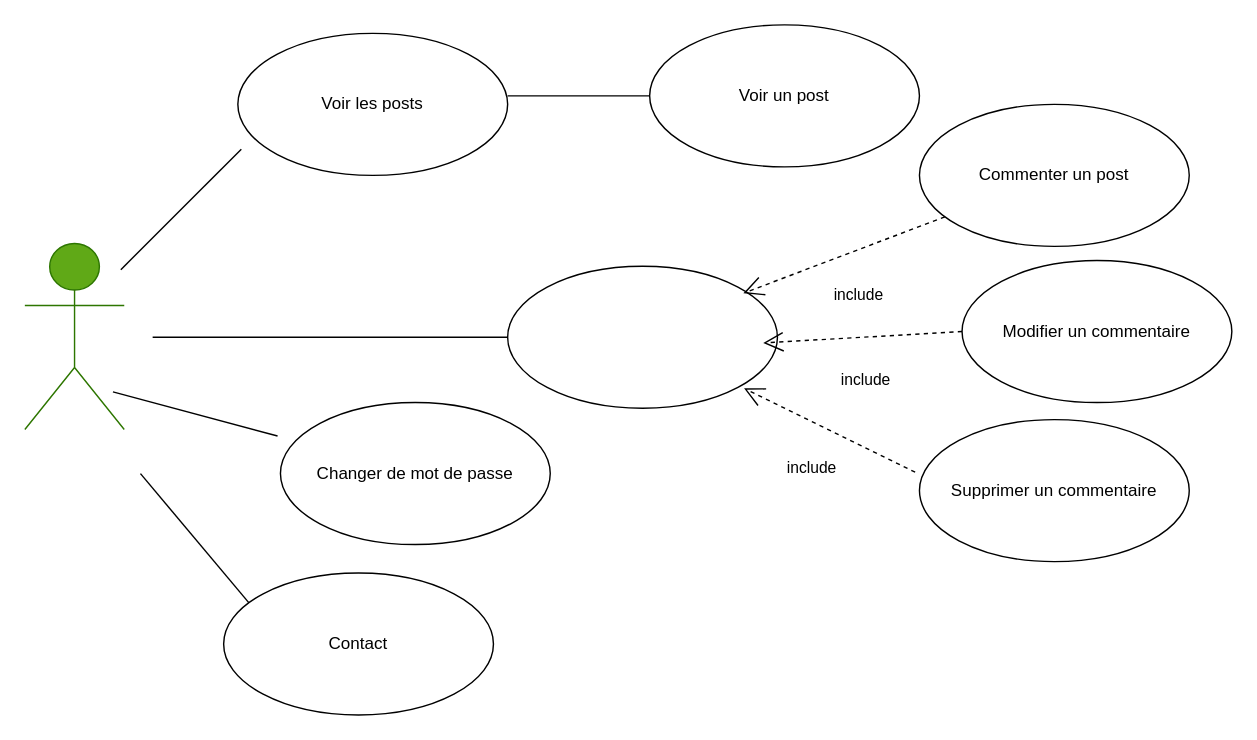
This 1257x740 diagram has some shape labels left out. The centre of each missing label's shape, as x and y in pixels:
S'authentifer: the point at 641,336
Utilisateur: the point at 73,336
